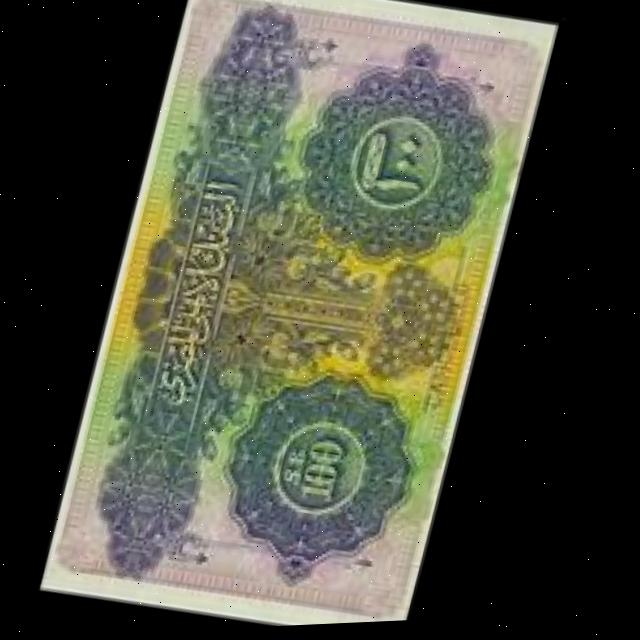banknote: (41, 0, 562, 638)
